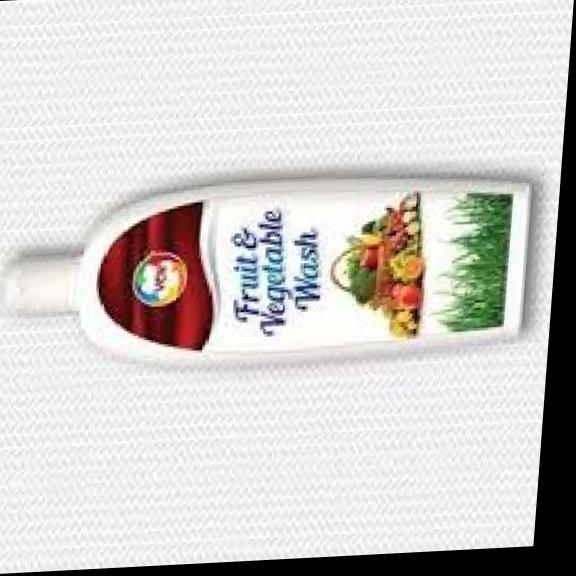Plastik: (0, 170, 535, 374)
